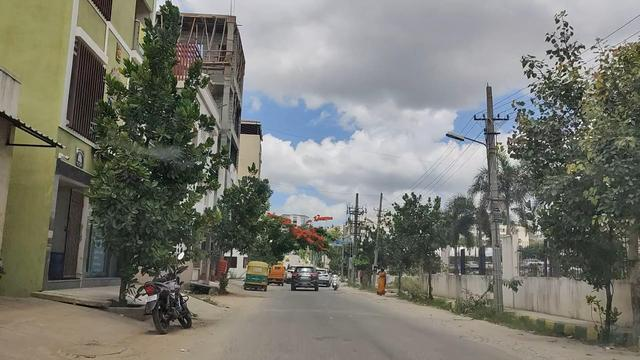RoadDamages: (395, 323, 534, 360), (36, 330, 162, 360)
